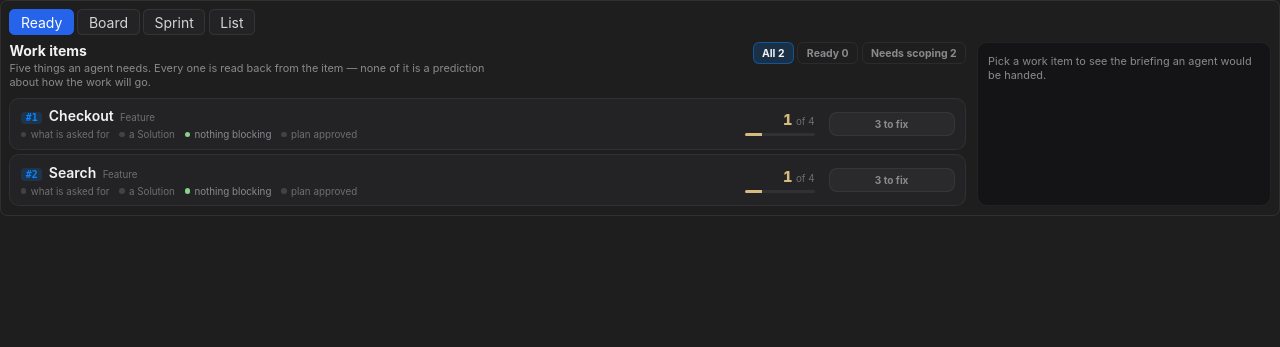
Test: WorkItemViews › shows when a generated strategy breaks the developer rules
Step 1. Click the tab "List" → (232, 22), box [209,9,255,35]
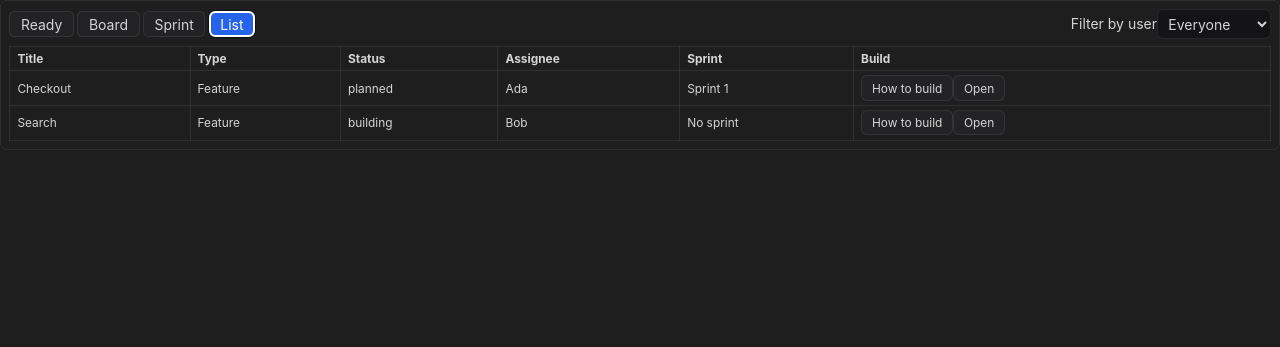
Step 2. Click the button with aria-label "Solution strategy for Checkout" → (907, 88), box [861,75,953,101]
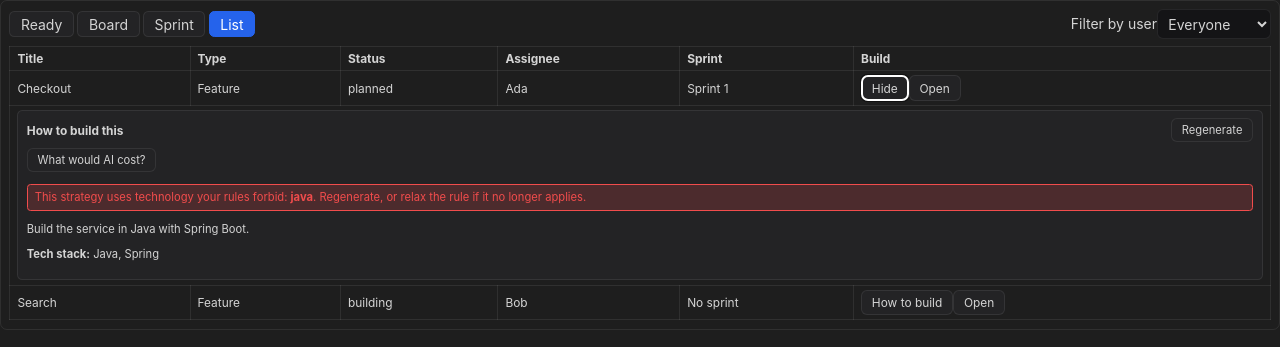
expect the message shows "technology your rules forbid": met, box [35,190,287,204]
expect the message shows "java": met, box [291,190,313,204]
